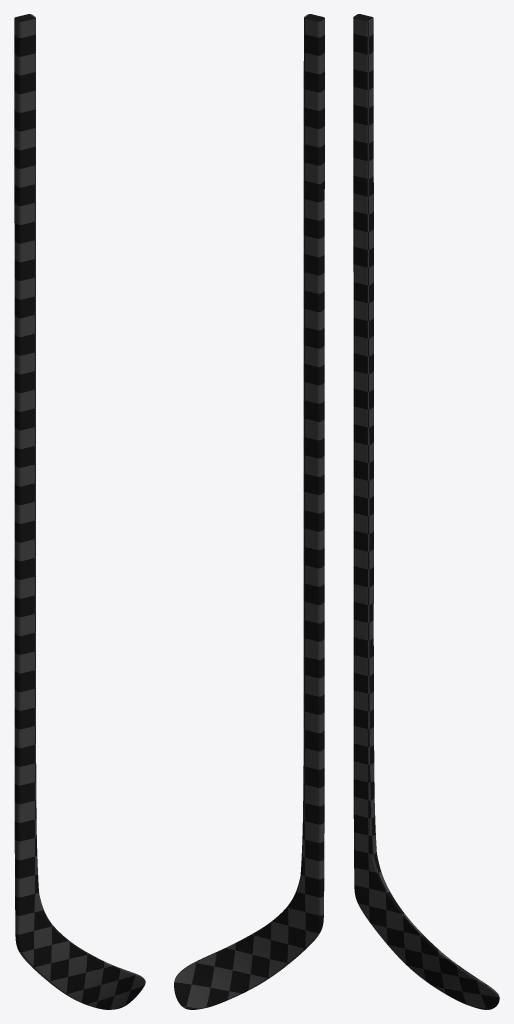
The picture shows the model from 3 angles, left to right: view 1: azimuth 30°, elevation 25°; view 2: azimuth 150°, elevation 25°; view 3: azimuth 330°, elevation 25°; orthographic projection. The views are drawn at different scales.
Parts seen in each view (by area): view 1: geometry_0; view 2: geometry_0; view 3: geometry_0.
Boxes of the visible parts, left/top/right/bottom form: geometry_0: left=14, top=14, right=145, bottom=1009; geometry_0: left=174, top=14, right=324, bottom=1009; geometry_0: left=353, top=14, right=499, bottom=1009.
Bounding box in the file's own units: 236 × 1650 × 57.61.
1 material, 1 textured.
